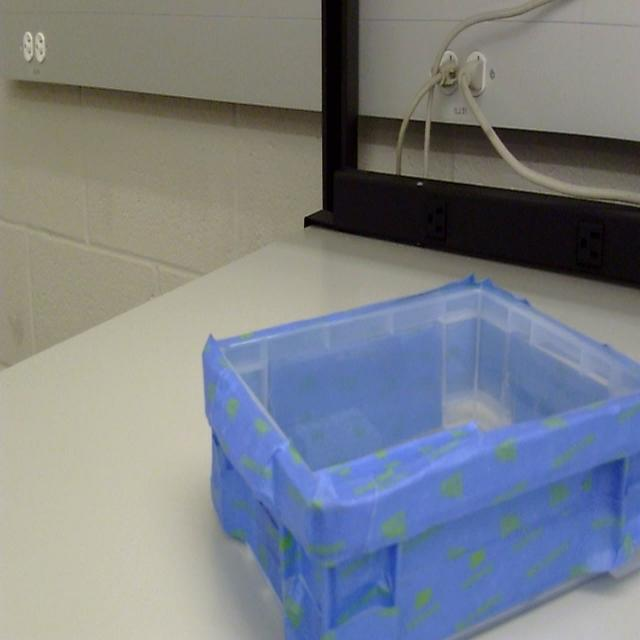bucket: (200, 277, 640, 640)
